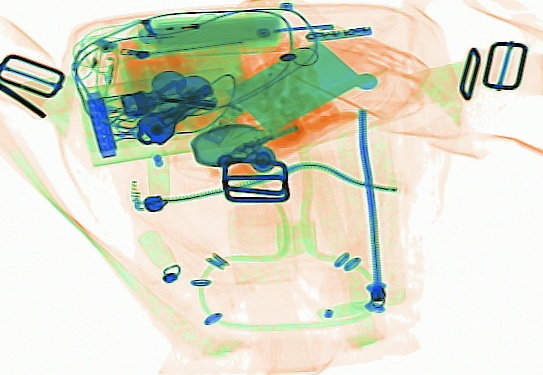lighter: (136, 18, 222, 46)
